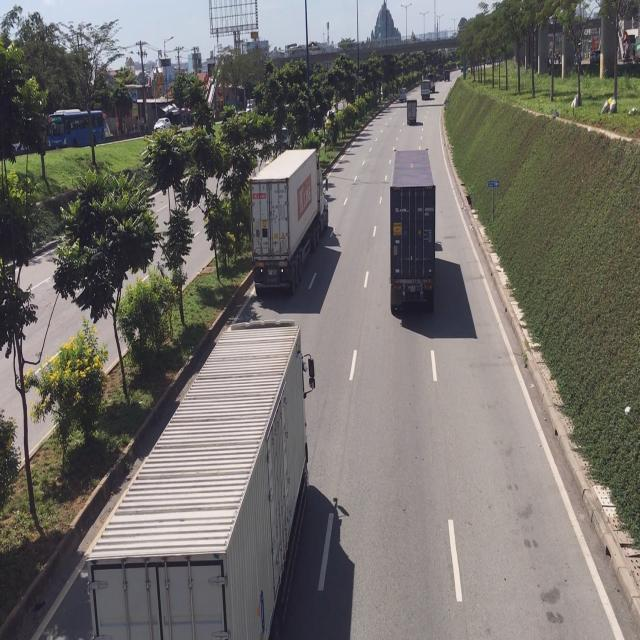truck: (77, 316, 308, 638), (253, 146, 327, 295), (389, 148, 439, 314)
